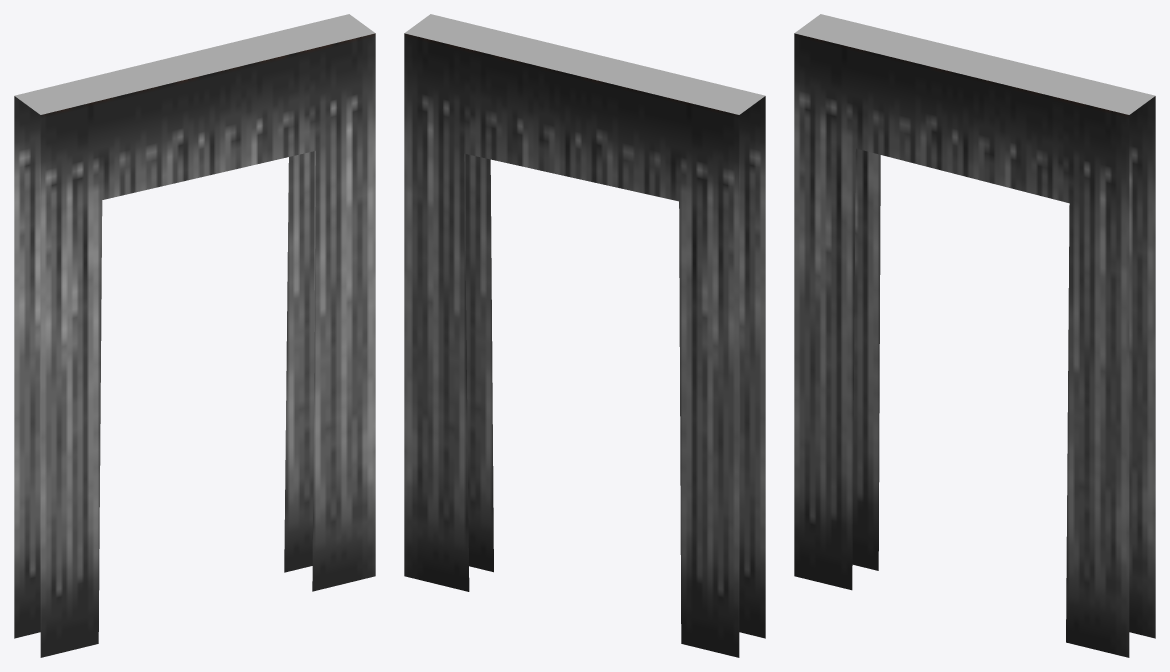
The model's file is W_I2_o_Verschoben [Wellblech]_787.glb.
3 views of the same model, side by side, from view 1: azimuth 30°, elevation 25°; view 2: azimuth 150°, elevation 25°; view 3: azimuth 330°, elevation 25° (orthographic).
Visible parts, largest first — view 1: pPlaneShape3, pPlaneShape2, pPlaneShape1; view 2: pPlaneShape2, pPlaneShape3, pPlaneShape1; view 3: pPlaneShape3, pPlaneShape2, pPlaneShape1.
Part boxes in pixels (box(x1,y1,x2,y2)): pPlaneShape3: box(40, 33, 375, 657); pPlaneShape2: box(14, 96, 315, 638); pPlaneShape1: box(14, 14, 375, 114); pPlaneShape2: box(404, 33, 739, 657); pPlaneShape3: box(464, 96, 765, 638); pPlaneShape1: box(404, 14, 765, 114); pPlaneShape3: box(794, 33, 1129, 657); pPlaneShape2: box(852, 96, 1155, 638); pPlaneShape1: box(794, 14, 1155, 114).
Bounding box in the file's own units: 0.2252 × 0.3486 × 0.0308.
Materials: 3 (2 with a texture image).
